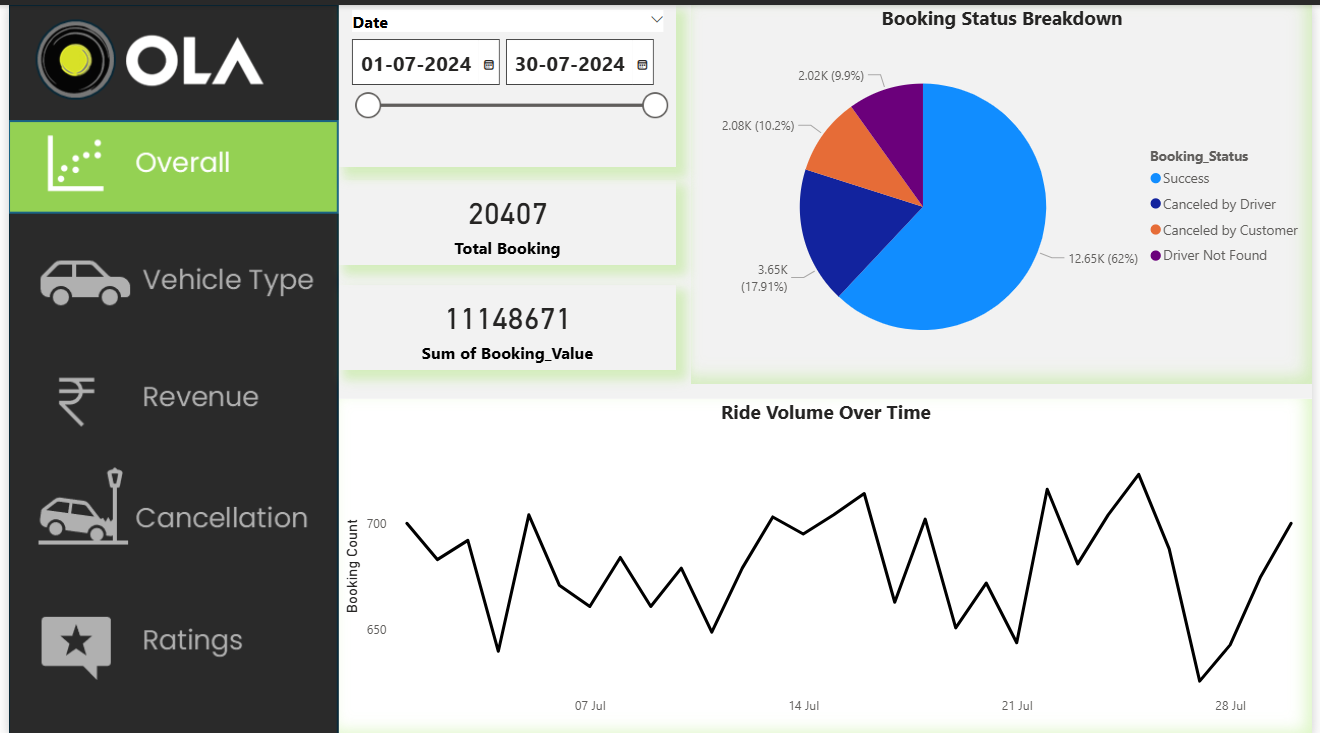

Layout of this report page (visuals, bound fields, positions):
{"tool":"powerbi","page":{"name":"Overall","canvas":[1280,720],"ordinal":0},"visuals":[{"type":"actionButton","box":[0,115.3,323.9,88.3],"z":0},{"type":"actionButton","box":[0,230.7,323.9,88.3],"z":1000},{"type":"actionButton","box":[0,342.3,323.9,88.3],"z":2000},{"type":"actionButton","box":[0,457.7,323.9,88.3],"z":3000},{"type":"actionButton","box":[0,584.1,323.9,88.3],"z":4000},{"type":"lineChart","title":"Ride Volume Over Time","fields":{"Y":["CountNonNull(July.Booking_ID)"],"Category":["July.Date"]},"box":[323.9,386.5,955.8,333.7],"z":5000},{"type":"pieChart","title":"Booking Status Breakdown","fields":{"Category":["July.Booking_Status"],"Y":["CountNonNull(July.Booking_ID)"]},"box":[669.9,0,609.8,371.8],"z":6000},{"type":"slicer","fields":{"Values":["July.Date"]},"box":[323.9,0,331.3,159.5],"z":7000},{"type":"card","fields":{"Values":["CountNonNull(July.Booking_ID)"]},"box":[323.9,171.8,331.3,83.4],"z":8000},{"type":"card","fields":{"Values":["Sum(July.Booking_Value)"]},"box":[323.9,274.8,331.3,83.4],"z":9000},{"type":"actionButton","box":[0,115.3,323.9,88.3],"z":10000}]}

Visuals, with their boxes in screenshot pixels (x1, y1, x2, y2), scaled from the page's 1280x720 canvas onto the 1320x733 screenshot:
actionButton: l=0, t=117, r=334, b=207
actionButton: l=0, t=235, r=334, b=325
actionButton: l=0, t=348, r=334, b=438
actionButton: l=0, t=466, r=334, b=556
actionButton: l=0, t=595, r=334, b=685
"Ride Volume Over Time" lineChart: l=334, t=393, r=1319, b=732
"Booking Status Breakdown" pieChart: l=691, t=0, r=1319, b=379
slicer - July.Date: l=334, t=0, r=676, b=162
card - CountNonNull(July.Booking_ID): l=334, t=175, r=676, b=260
card - Sum(July.Booking_Value): l=334, t=280, r=676, b=365
actionButton: l=0, t=117, r=334, b=207
